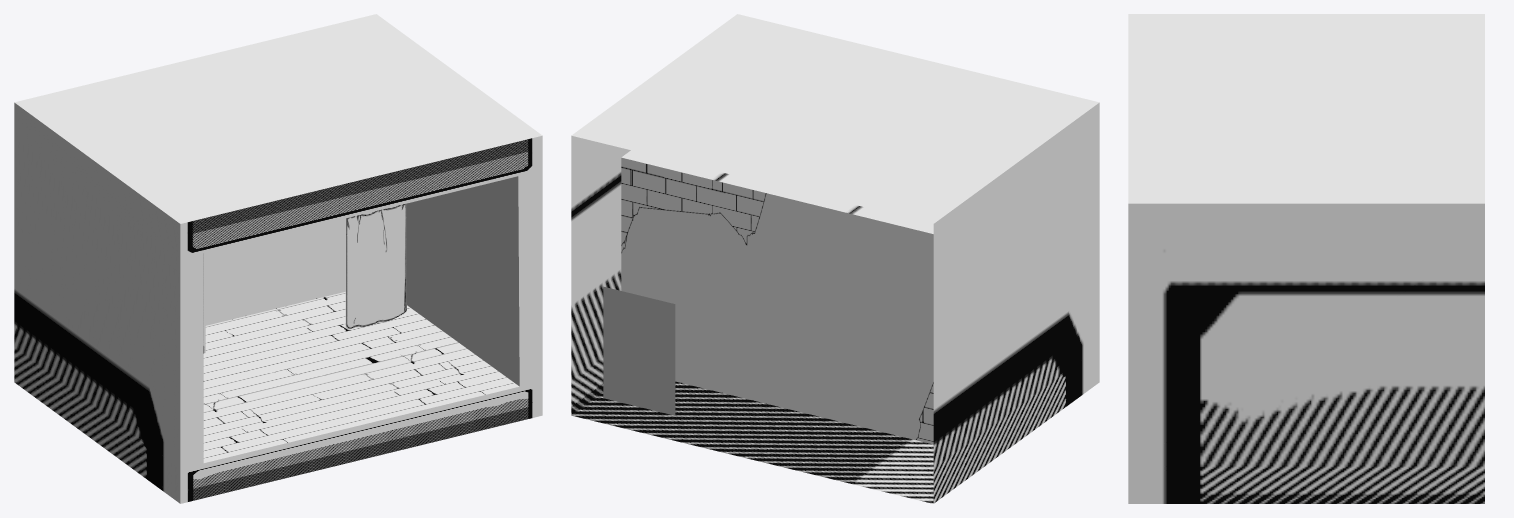
The model's file is ROOM.fbx.
3 renders of one model, left to right at view 1: azimuth 30°, elevation 25°; view 2: azimuth 150°, elevation 25°; view 3: azimuth 270°, elevation 25°, orthographic. The views are drawn at different scales.
Parts seen in each view (by area): view 1: 立方体.004, 平面.009; view 2: 立方体.004, 平面.003; view 3: 立方体.004.
Part boxes in pixels (x1=…): 立方体.004: x1=14, y1=14, x2=542, y2=503; 平面.009: x1=345, y1=203, x2=406, y2=329; 立方体.004: x1=571, y1=14, x2=1099, y2=503; 平面.003: x1=603, y1=286, x2=675, y2=415; 立方体.004: x1=1128, y1=14, x2=1484, y2=503.
Bounding box in the file's own units: 200 × 148 × 166.
